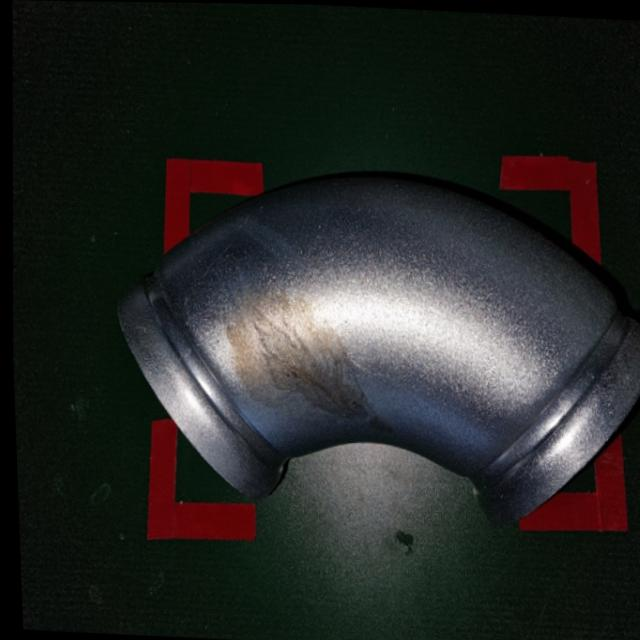Burn: (215, 263, 391, 447)
Defect: (92, 153, 640, 536)
